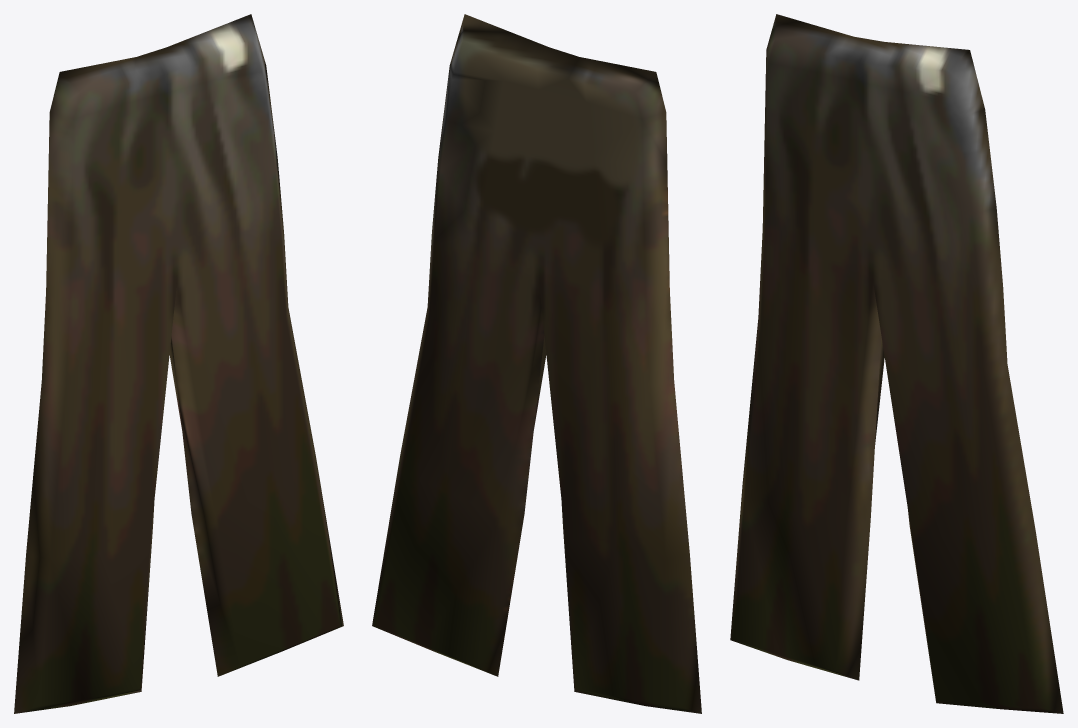
Rendered from prop_fuku05.fbx.
3 renders of one model, left to right at view 1: azimuth 30°, elevation 25°; view 2: azimuth 150°, elevation 25°; view 3: azimuth 330°, elevation 25°, orthographic.
Parts seen in each view (by area): view 1: prop_fuku05; view 2: prop_fuku05; view 3: prop_fuku05.
Part boxes in pixels (x1=…): prop_fuku05: x1=14, y1=14, x2=343, y2=713; prop_fuku05: x1=372, y1=14, x2=701, y2=713; prop_fuku05: x1=730, y1=14, x2=1063, y2=713.
Bounding box in the file's own units: 0.5073 × 0.962 × 0.0583.
